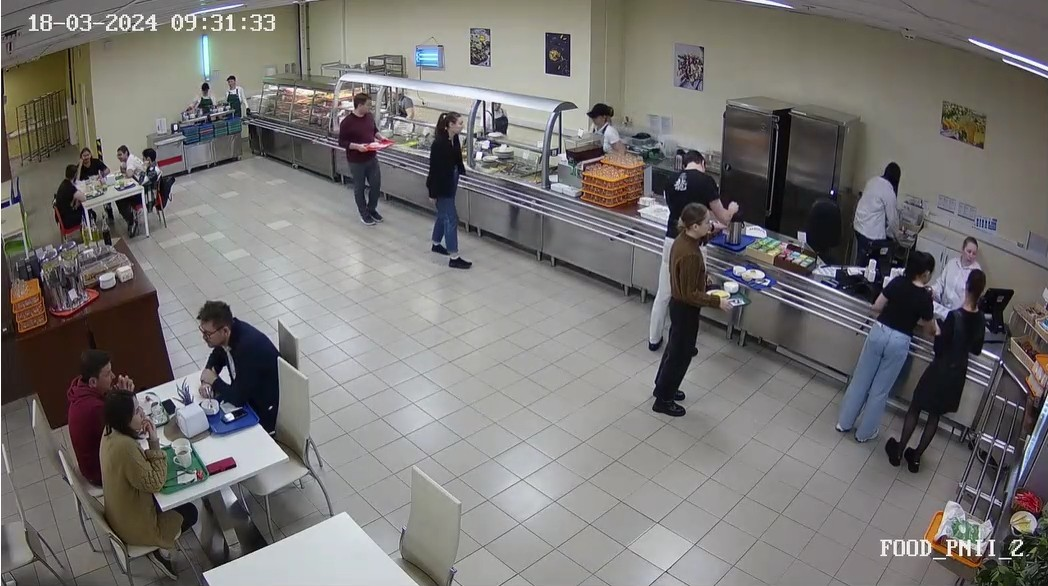Na_Kasse: (798, 251, 1021, 476), (770, 236, 951, 451)
Personal: (855, 146, 912, 268), (917, 232, 987, 294), (573, 92, 626, 158), (216, 65, 256, 117), (182, 74, 222, 123)
Vybiraet: (653, 200, 717, 428), (422, 99, 482, 271), (334, 86, 401, 234), (649, 139, 738, 211)
Za_Stolom: (182, 283, 296, 430), (99, 385, 182, 556), (54, 349, 126, 498), (50, 160, 92, 228), (133, 146, 169, 206), (69, 140, 112, 179), (113, 137, 146, 182)
